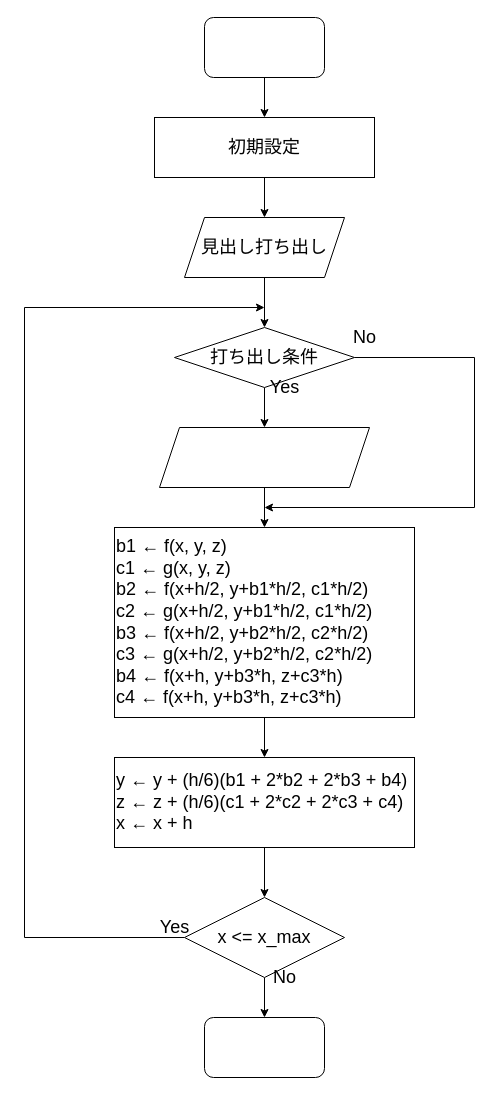
Some shapes in this 500 by 1095 pixel diagram are drawn without their labels. Here are the shapes that lost their labels. From the top down, the centre of each, then its label:
At (x=264, y=47): "START".
At (x=264, y=457): "厳密解/解の打ち出し".
At (x=264, y=1047): "END".
